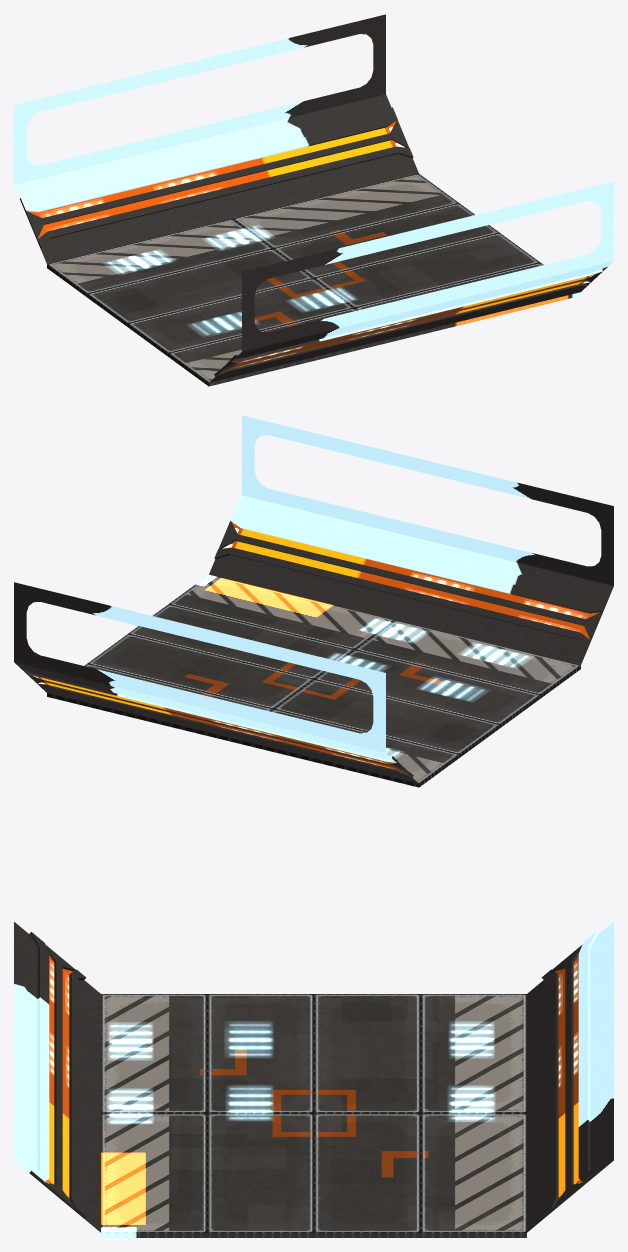
File: FUT0410050.fbx
The picture shows the model from 3 angles, top to bottom: view 1: azimuth 30°, elevation 25°; view 2: azimuth 150°, elevation 25°; view 3: azimuth 270°, elevation 25°; orthographic projection. The views are drawn at different scales.
Visible parts, largest first — view 1: smFUT0410050; view 2: smFUT0410050; view 3: smFUT0410050.
Boxes of the visible parts, bbox=[...] form: smFUT0410050: bbox=[14, 14, 613, 386]; smFUT0410050: bbox=[14, 415, 613, 787]; smFUT0410050: bbox=[14, 922, 613, 1237].
Bounding box in the file's own units: 798 × 284 × 846.
